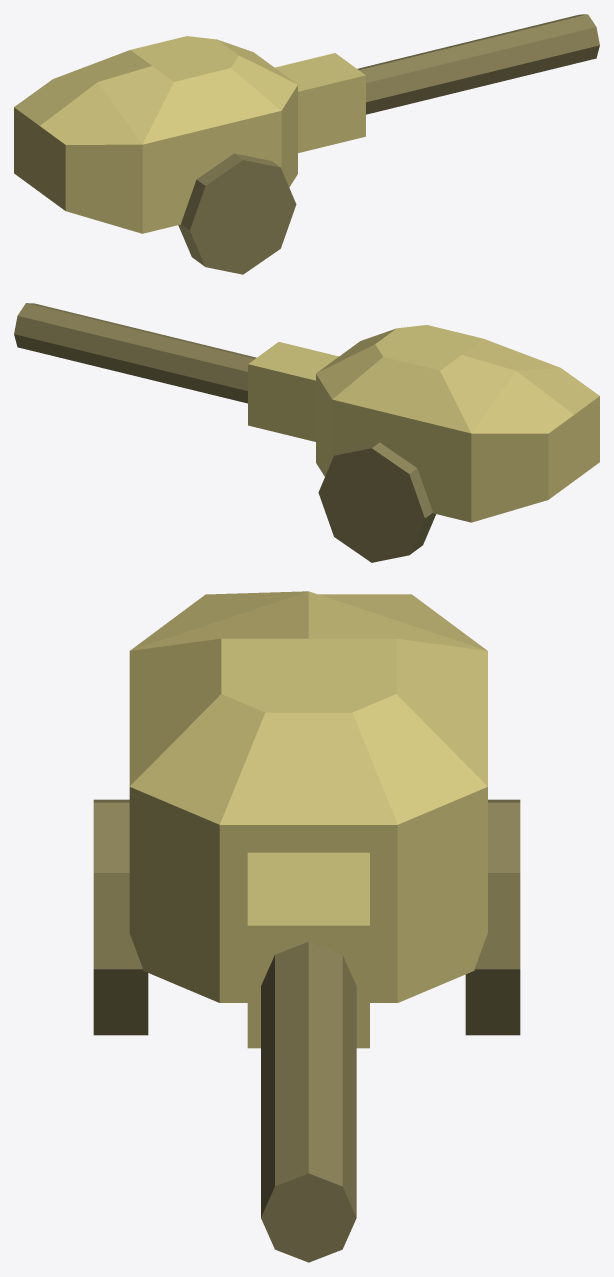
Rendered from TOP.fbx.
3 views of the same model, one above another, from view 1: azimuth 30°, elevation 25°; view 2: azimuth 150°, elevation 25°; view 3: azimuth 270°, elevation 25° (orthographic). The views are drawn at different scales.
Parts seen in each view (by area): view 1: Gun; view 2: Gun; view 3: Gun.
Boxes of the visible parts, x1,y1,x2,y2 form: Gun: (14,14,599,274); Gun: (14,303,599,562); Gun: (93,591,520,1262).
Bounding box in the file's own units: 821 × 256 × 277.
